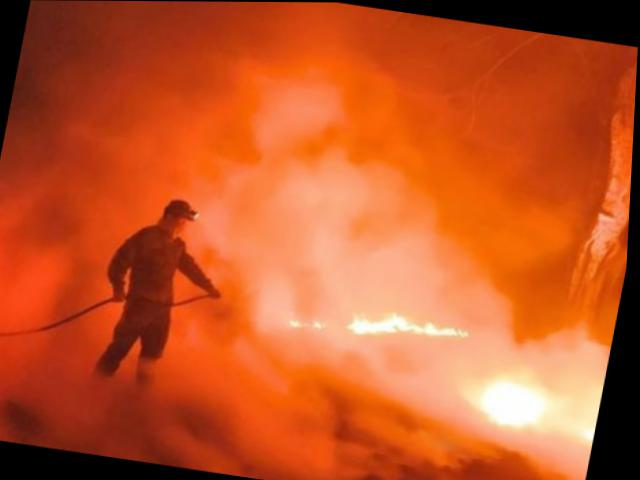fire: (280, 289, 480, 360), (472, 373, 606, 439)
